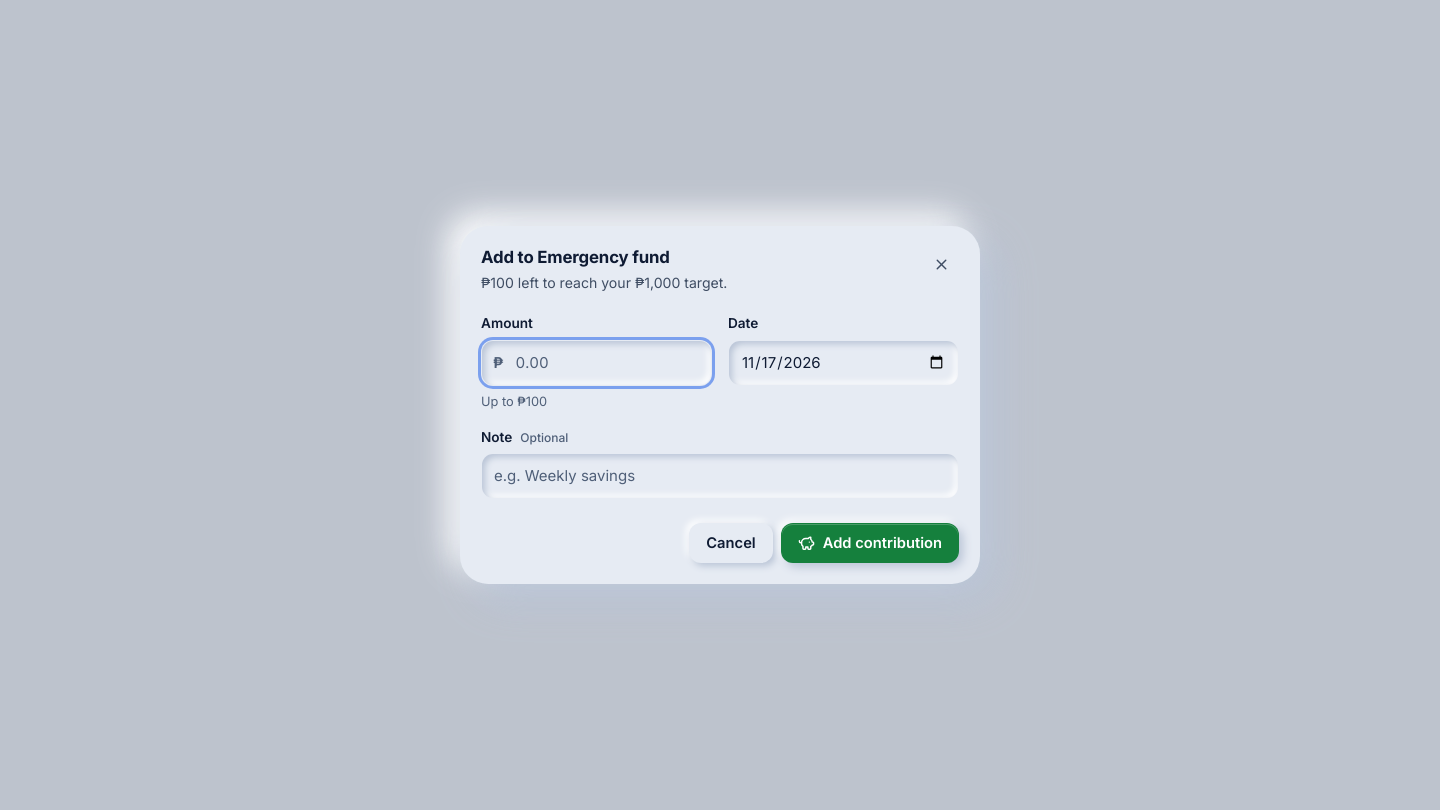
GoalMoneyModal › explains the target constraint in plain language
The width and height of the screenshot is (1440, 810).
Type "400" into the number field labelled "Amount" at x=596, y=363, box [481, 340, 712, 386]
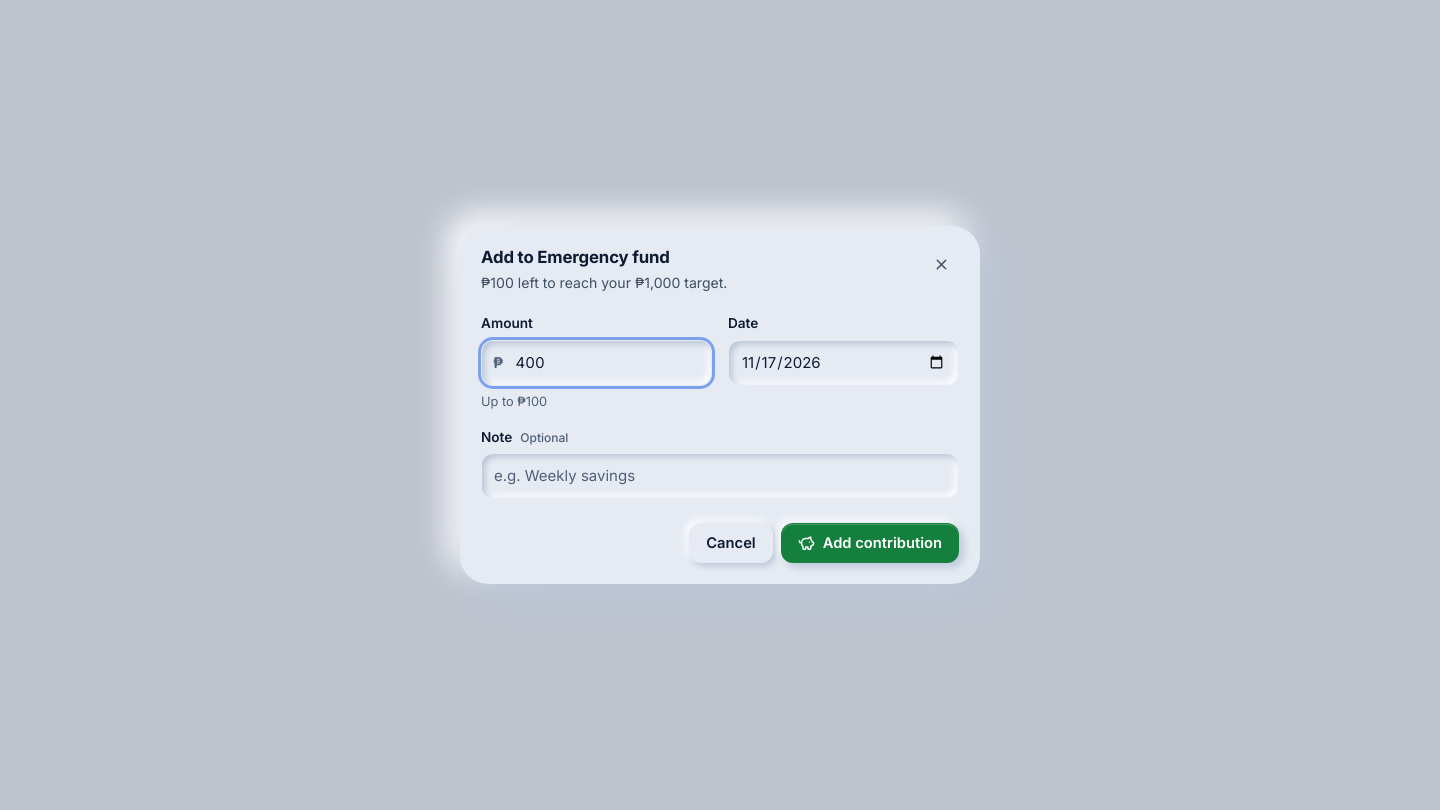
Click the button "Add contribution" at x=870, y=544, box [781, 524, 959, 564]
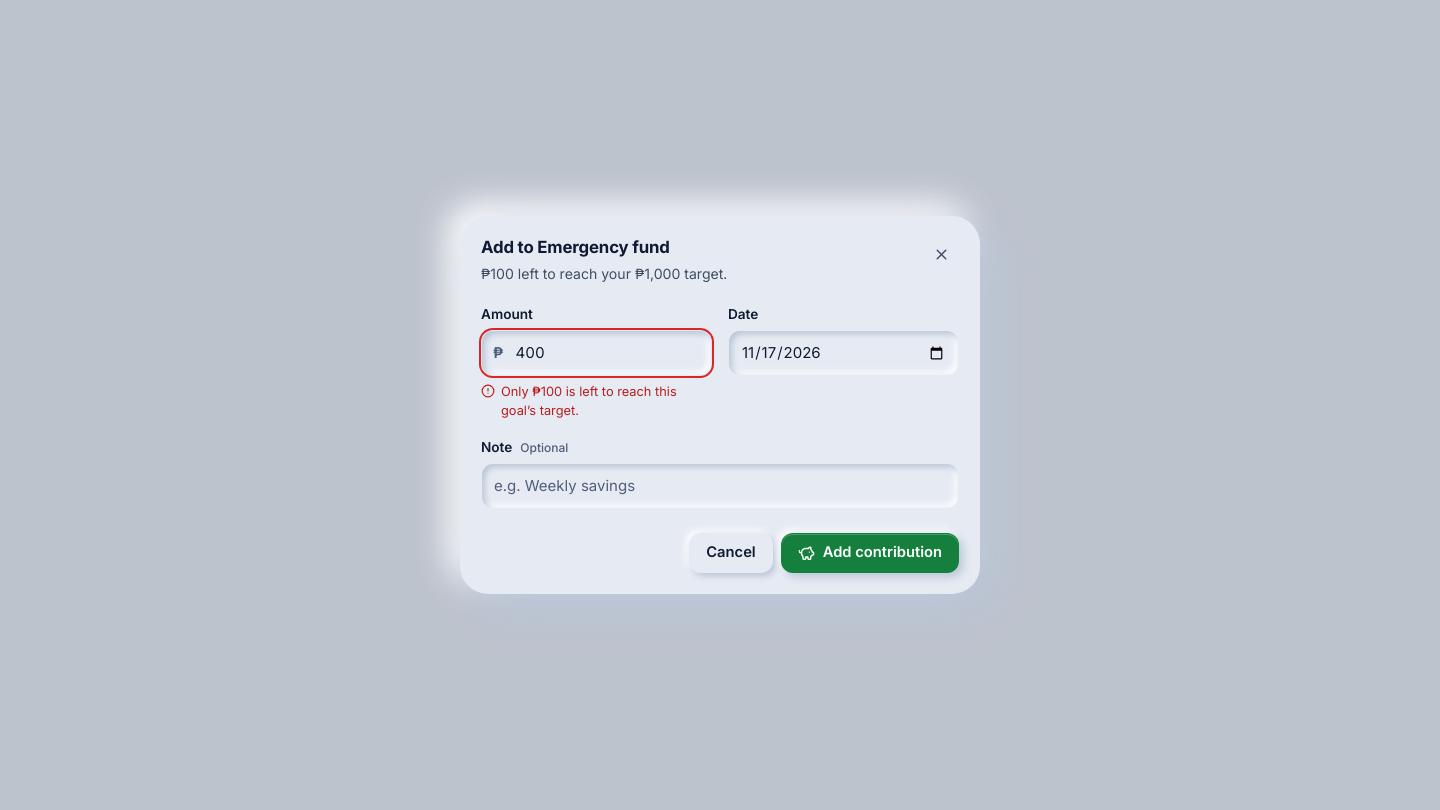
Expected: the text "Only ₱100 is left to reach this goal’s target." is shown, [481, 384, 677, 418]
